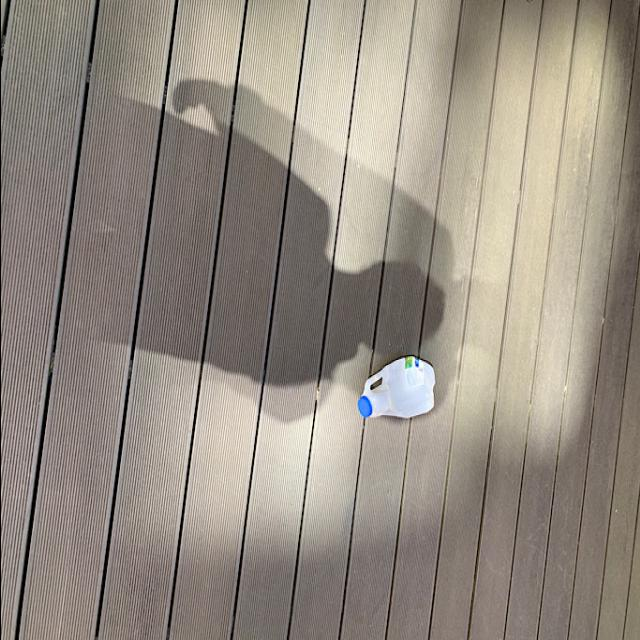litter: (356, 356, 433, 426)
